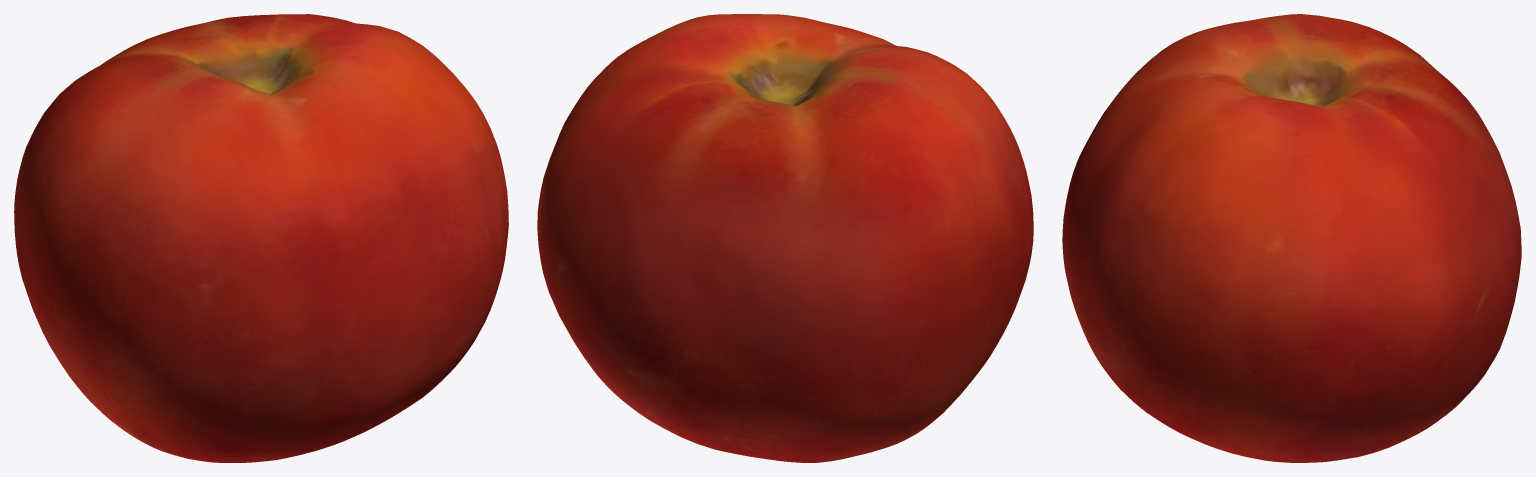
The model's file is produce_tomato_fruit_a01.glb.
The picture shows the model from 3 angles, left to right: view 1: azimuth 30°, elevation 25°; view 2: azimuth 150°, elevation 25°; view 3: azimuth 270°, elevation 25°; orthographic projection. The views are drawn at different scales.
Visible parts, largest first — view 1: sm_food_produce_tomato_a01_mesh_00.001; view 2: sm_food_produce_tomato_a01_mesh_00.001; view 3: sm_food_produce_tomato_a01_mesh_00.001.
Part boxes in pixels (x1,y1,x2,y2): sm_food_produce_tomato_a01_mesh_00.001: (14, 14, 508, 462); sm_food_produce_tomato_a01_mesh_00.001: (537, 14, 1033, 462); sm_food_produce_tomato_a01_mesh_00.001: (1062, 14, 1521, 462).
Size of the model in its own units: 0.065 by 0.0568 by 0.0621.
1 material, 1 textured.
